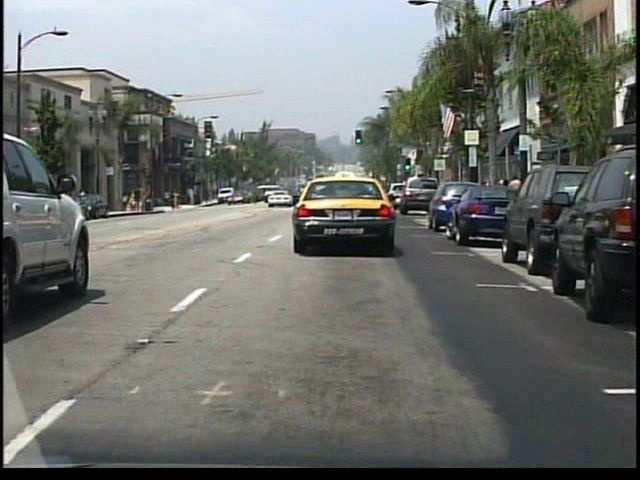person: (172, 190, 180, 211)
